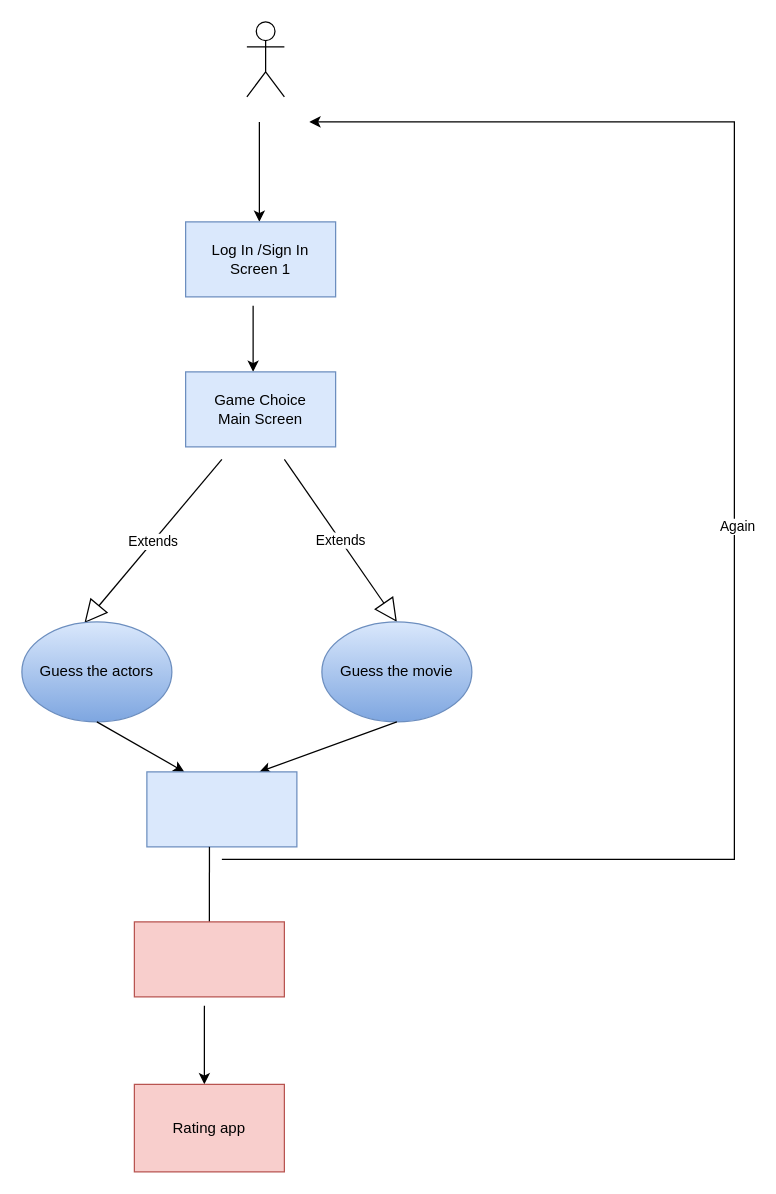
Some shapes in this 776 by 1194 pixel diagram are drawn without their labels. Each missing label, with the box of its shape:
Leaderboard Screen score listing: (133, 921, 284, 997)
Score Screen: (146, 771, 297, 847)
Utilizator: (246, 21, 284, 97)
